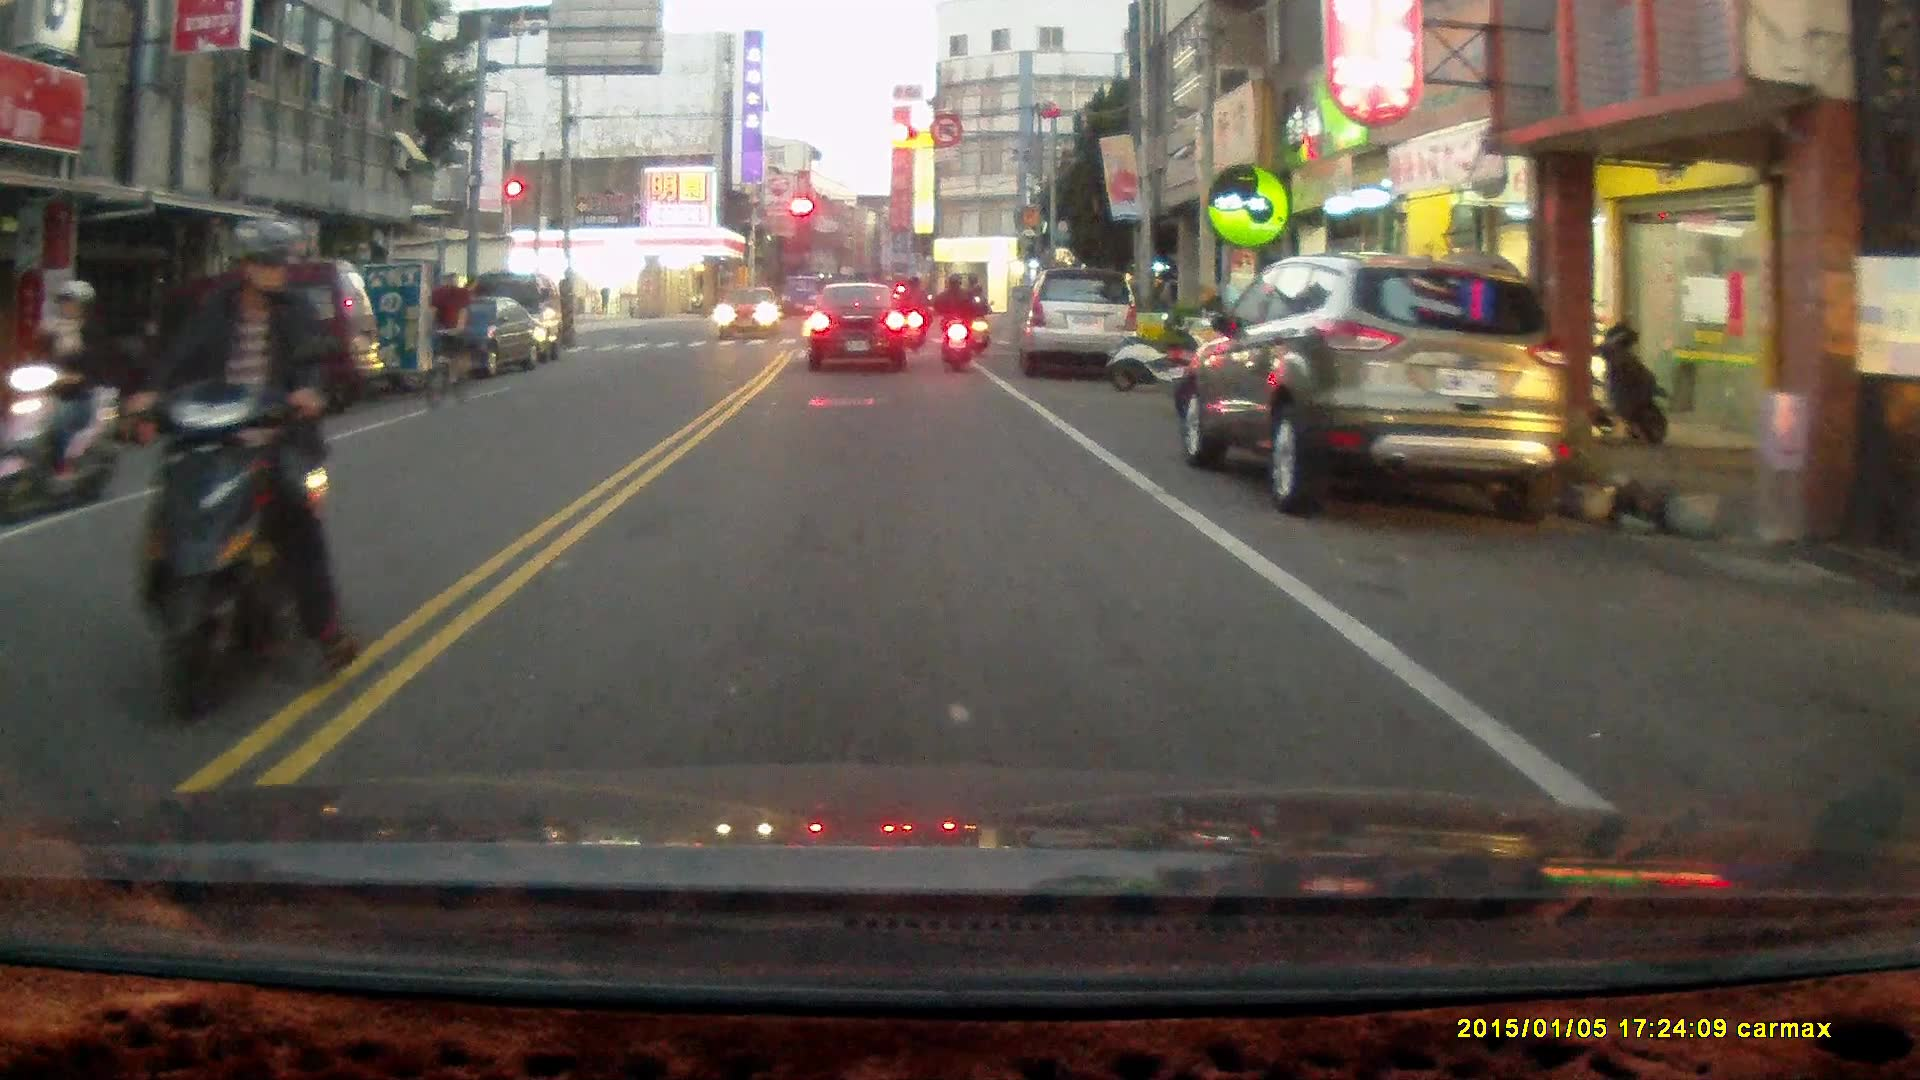rider: (128, 218, 359, 722), (0, 280, 122, 520), (422, 269, 472, 412), (929, 271, 977, 376), (896, 274, 930, 354), (961, 282, 990, 358)
vehicle: (1181, 254, 1565, 527), (113, 262, 387, 428), (1025, 270, 1144, 383), (419, 297, 544, 383), (810, 282, 914, 371), (711, 283, 779, 339)
